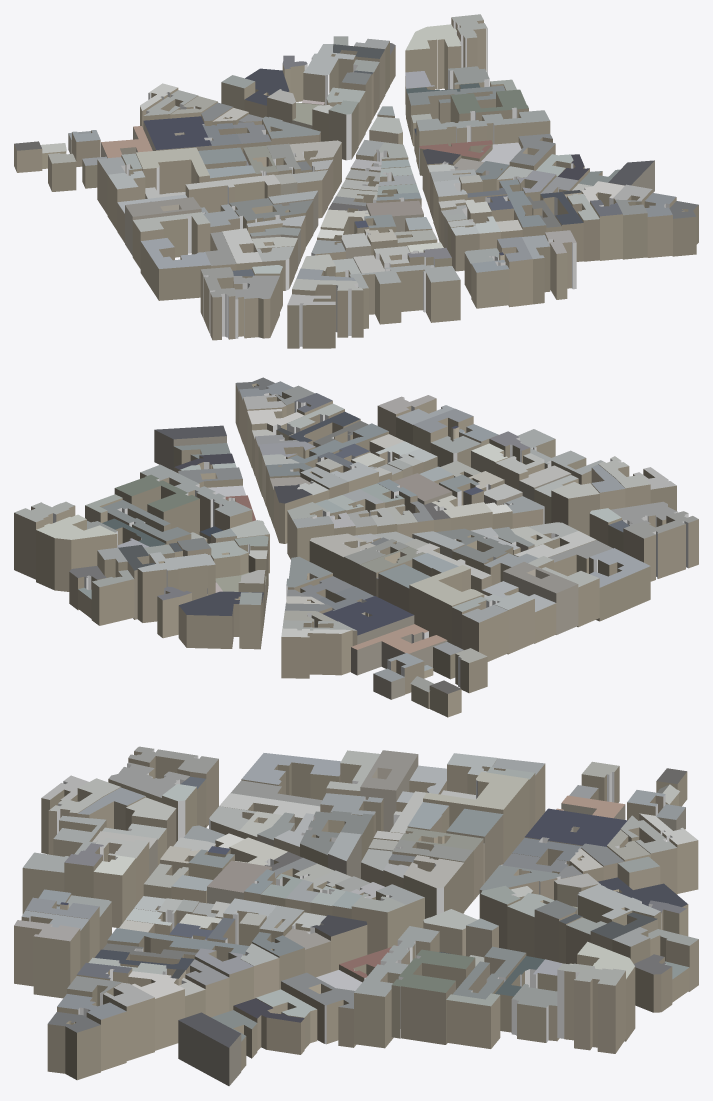
The picture shows the model from 3 angles, top to bottom: view 1: azimuth 30°, elevation 25°; view 2: azimuth 150°, elevation 25°; view 3: azimuth 270°, elevation 25°; orthographic projection. The views are drawn at different scales.
Parts seen in each view (by area): view 1: tuile; view 2: tuile; view 3: tuile.
Part boxes in pixels (x1,y1,x2,y2): tuile: (14,14,698,348); tuile: (14,377,698,717); tuile: (14,746,698,1085).
Size of the model in its own units: 278 by 42.05 by 271.
